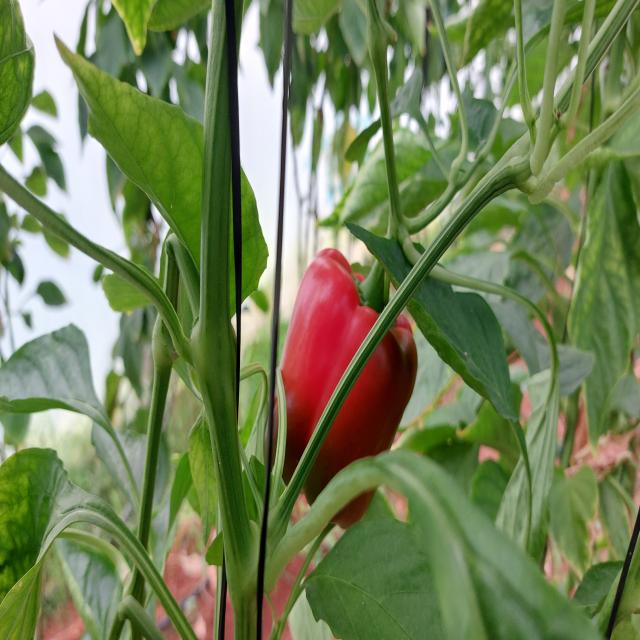Red-Ready-to-Harvest: (252, 241, 432, 538)
